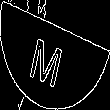M_N: (35, 24, 75, 86)
